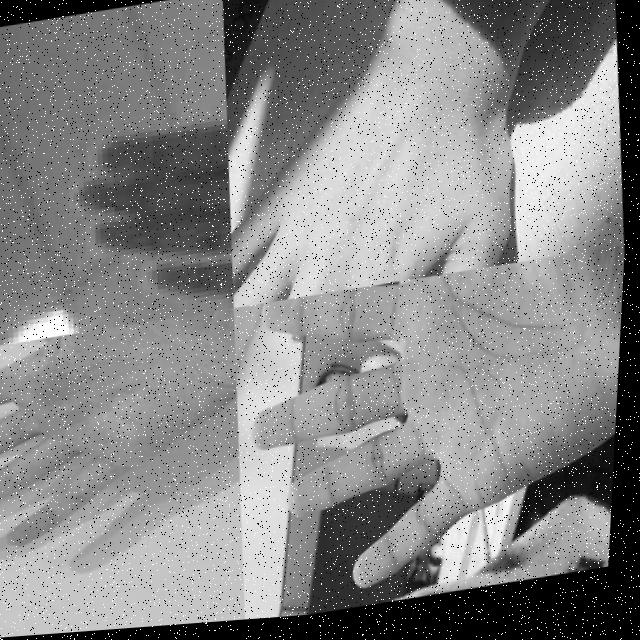hand: (236, 255, 628, 610), (212, 0, 533, 313), (0, 310, 254, 553), (52, 31, 248, 336)
